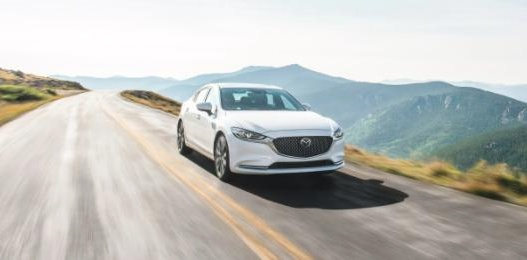car: (150, 65, 366, 204)
